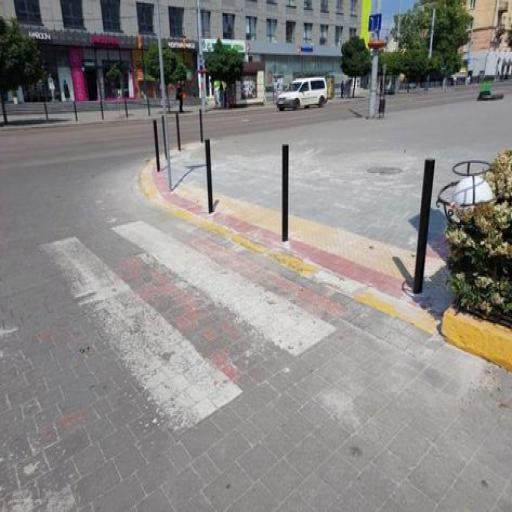book: (274, 73, 329, 114)
chair: (0, 222, 334, 512)
